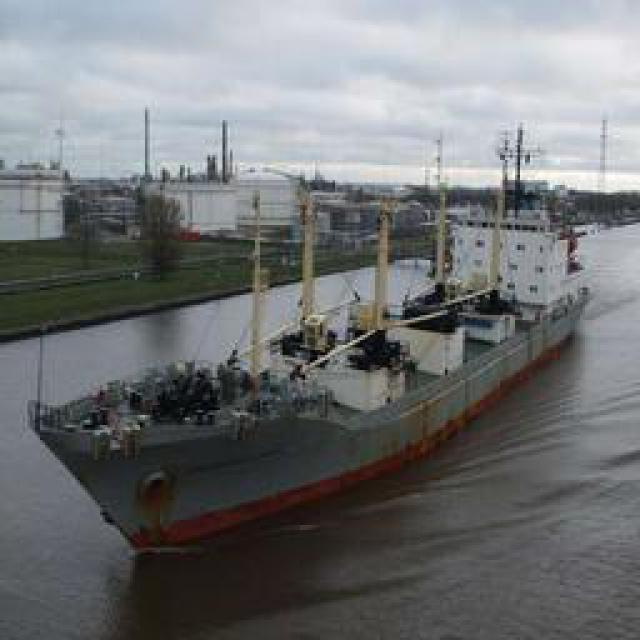Ship: (26, 191, 594, 576)
